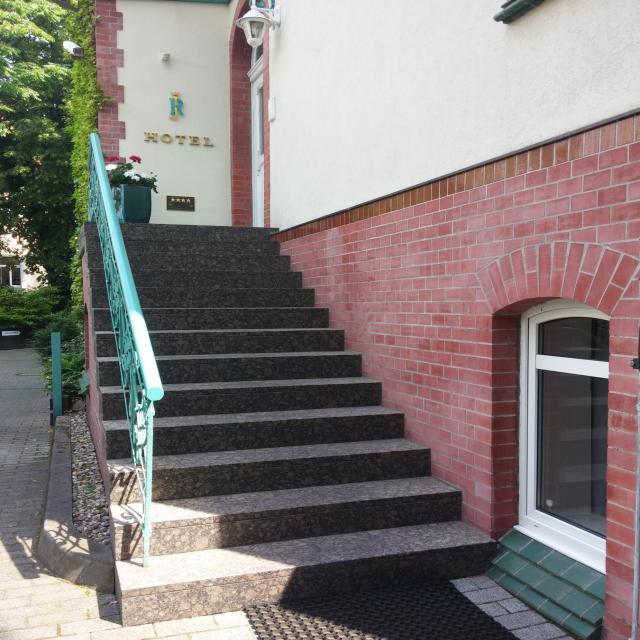AVOID: (82, 222, 493, 628)
